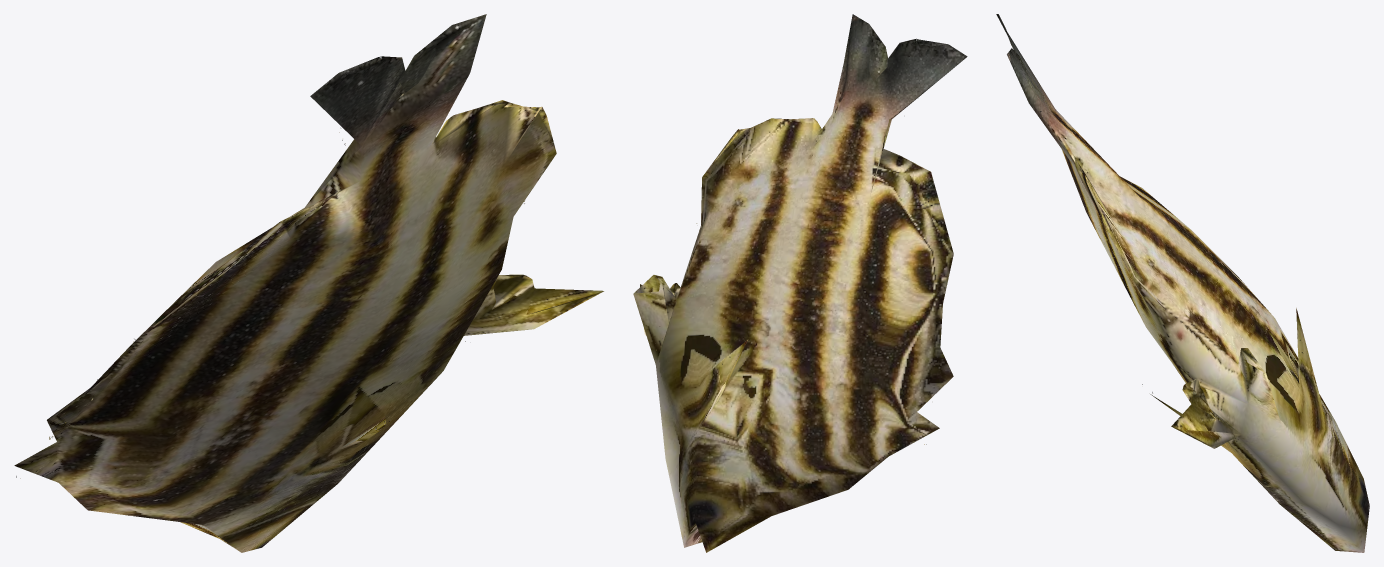
The model's file is stripey_lo.glb.
The picture shows the model from 3 angles, left to right: view 1: azimuth 30°, elevation 25°; view 2: azimuth 150°, elevation 25°; view 3: azimuth 270°, elevation 25°; orthographic projection. The views are drawn at different scales.
Parts seen in each view (by area): view 1: stripey_far; view 2: stripey_far; view 3: stripey_far.
Part boxes in pixels (x1,y1,x2,y2): stripey_far: [14, 14, 603, 552]; stripey_far: [633, 14, 967, 552]; stripey_far: [996, 14, 1369, 552].
Size of the model in its own units: 0.0859 by 0.1067 by 0.0734.
1 material, 1 textured.
